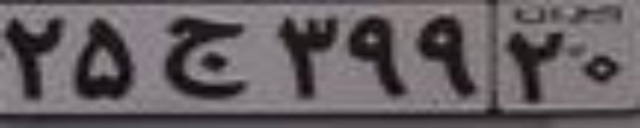0: (580, 53, 622, 83)
2: (4, 15, 62, 99), (504, 29, 564, 102)
3: (274, 13, 338, 97)
5: (70, 16, 135, 98)
9: (345, 15, 411, 99), (414, 15, 479, 95)
jim: (159, 16, 249, 97)
